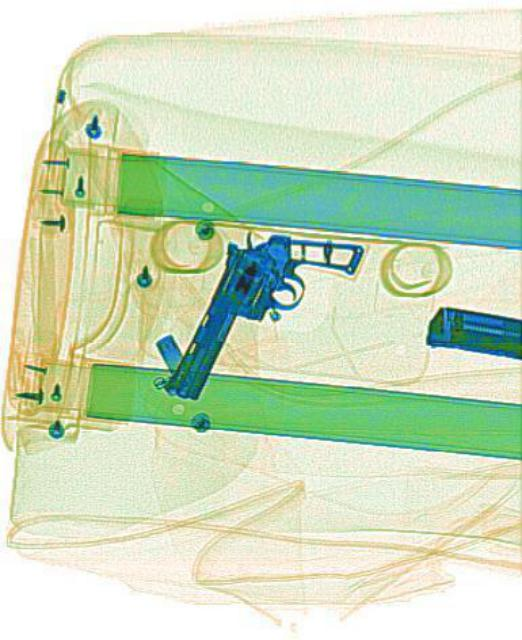Gun: (151, 178, 365, 452)
